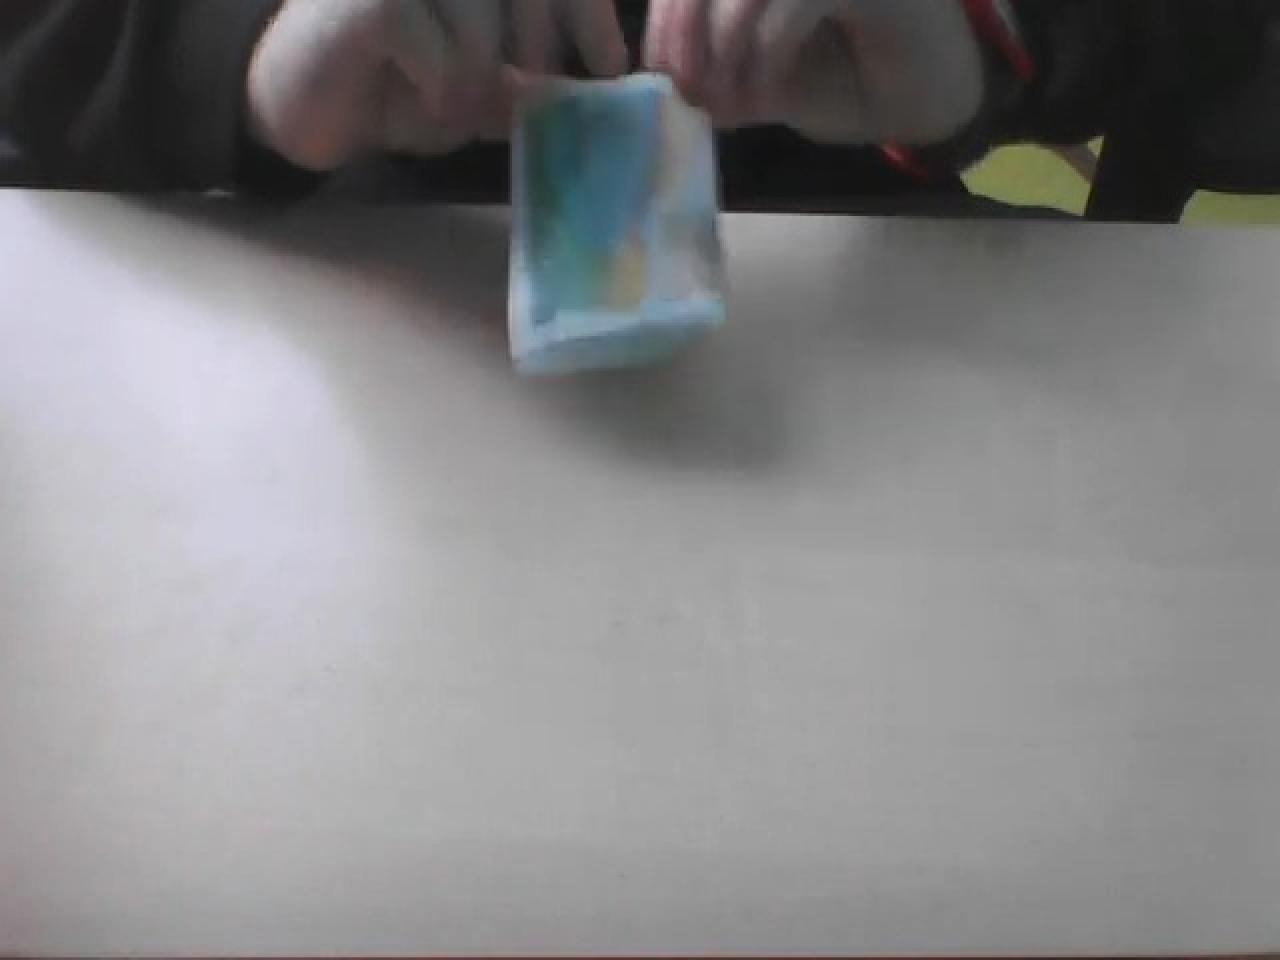100leva: (502, 65, 728, 379)
